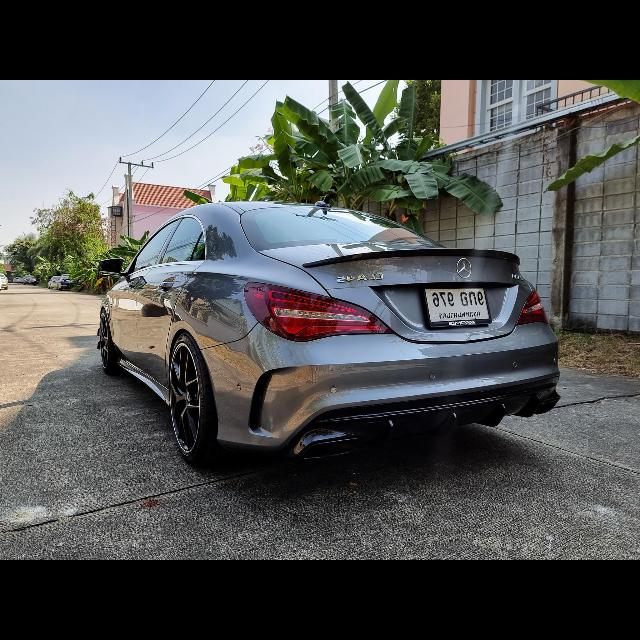cars: (89, 184, 575, 480)
